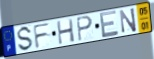E: (98, 9, 120, 40)
F: (32, 21, 52, 50)
H: (55, 18, 76, 46)
N: (119, 7, 138, 34)
P: (76, 15, 94, 43)
S: (17, 25, 34, 52)
